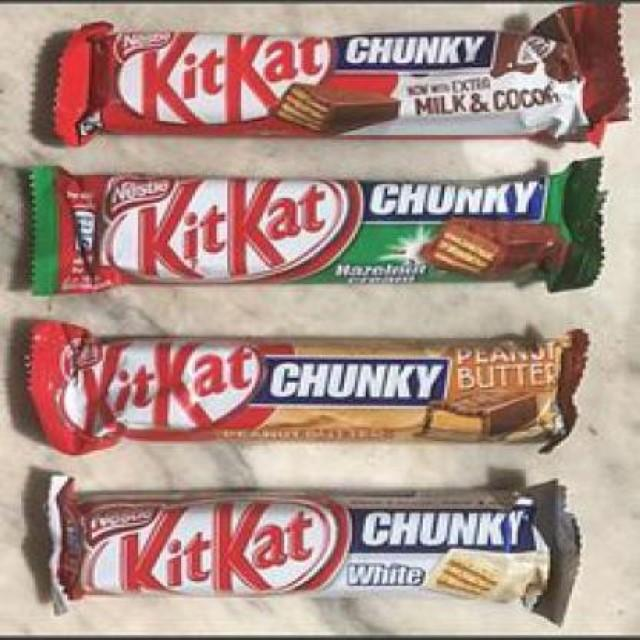kitkat_chocolate: (48, 323, 600, 442), (67, 482, 573, 610), (43, 168, 587, 280), (50, 33, 608, 127)
